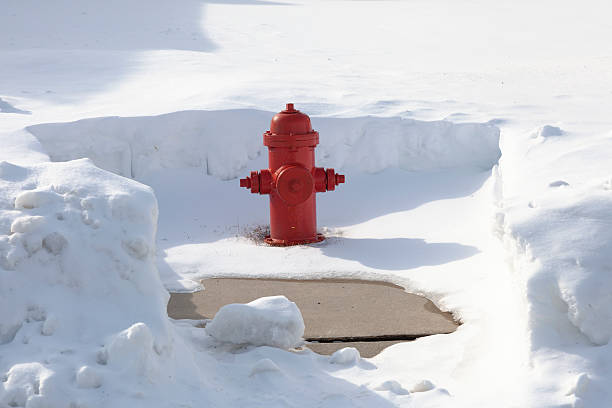firehdyrant: (233, 100, 350, 252)
